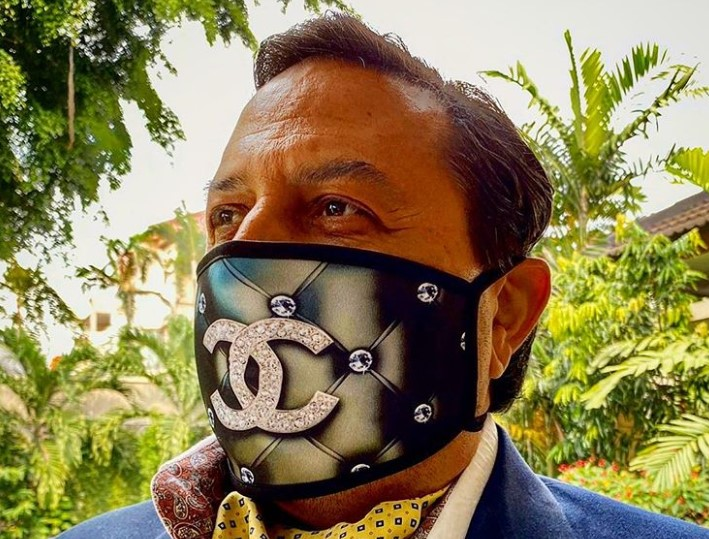face_with_mask: (190, 12, 546, 504)
